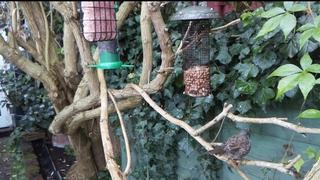dunnock: (204, 128, 251, 165)
